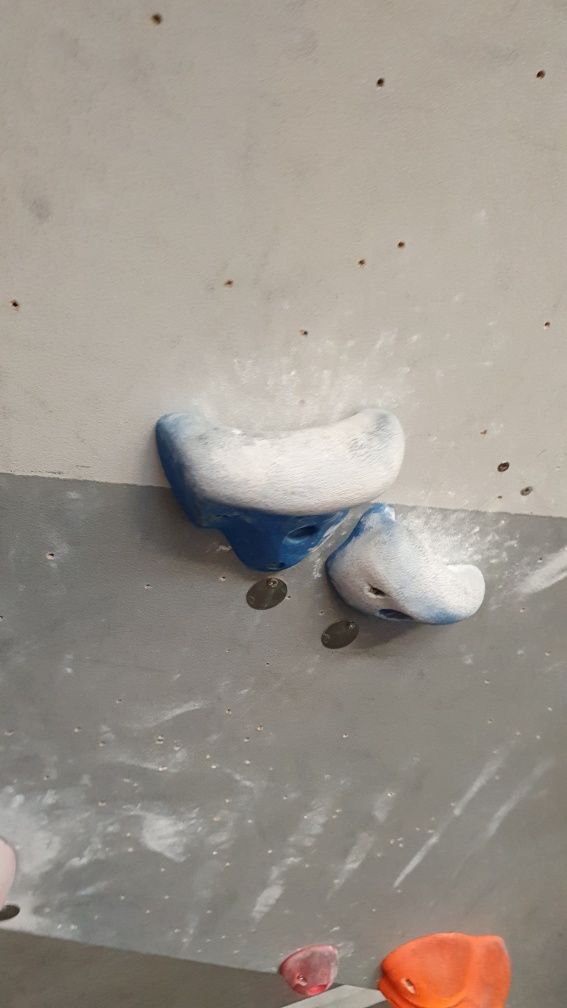Hand Start: (239, 570, 298, 616), (318, 613, 361, 654)
Jug: (151, 407, 409, 573), (326, 495, 487, 634)
